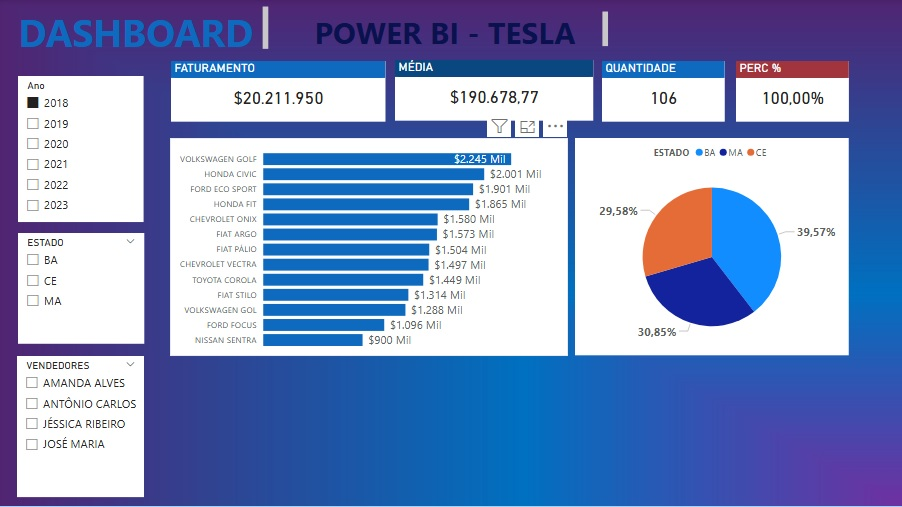

Layout of this report page (visuals, bound fields, positions):
{"tool":"powerbi","page":{"name":"Página 1","canvas":[1280,720],"ordinal":0},"visuals":[{"type":"card","title":"FATURAMENTO","fields":{"Values":["LANÇAMENTOS.FATURAMENTO"]},"box":[322.9,85.7,304.3,85.7],"z":0},{"type":"card","title":"MÉDIA","fields":{"Values":["LANÇAMENTOS.FATURAMENTO"]},"box":[637.1,85.7,281.4,85.7],"z":1000},{"type":"card","title":"QUANTIDADE","fields":{"Values":["LANÇAMENTOS.FATURAMENTO"]},"box":[930,85.7,155.7,85.7],"z":2000},{"type":"card","title":"PERC %","fields":{"Values":["LANÇAMENTOS.FATURAMENTO"]},"box":[1095.7,85.7,124.3,85.7],"z":3000},{"type":"slicer","fields":{"Values":["LANÇAMENTOS.ESTADO"]},"box":[27.1,330,178.6,157.1],"z":4000},{"type":"slicer","fields":{"Values":["LANÇAMENTOS.VENDEDORES"]},"box":[25.7,504.3,180,200],"z":5000},{"type":"slicer","fields":{"Values":["LANÇAMENTOS.DATA.Variation.Hierarquia de datas.Ano"]},"box":[27.5,107.3,178.2,206.6],"z":6000},{"type":"barChart","fields":{"Category":["TABELA CARROS.PRODUTO"],"Y":["LANÇAMENTOS.FATURAMENTO"]},"box":[322.8,189.8,897.3,308.6],"z":7000},{"type":"textbox","box":[27.1,2.9,404.3,80],"z":8000},{"type":"textbox","box":[442.9,11.4,425.7,62.9],"z":9000},{"type":"card","fields":{"Values":["LANÇAMENTOS.PERC"]},"box":[962.1,513.4,258,91.3],"z":9003}]}

Visuals, with their boxes in screenshot pixels (x1, y1, x2, y2), scaled from the page's 1280x720 canvas onto the 902x507 screenshot:
"FATURAMENTO" card: locate(228, 60, 442, 121)
"MÉDIA" card: locate(449, 60, 647, 121)
"QUANTIDADE" card: locate(655, 60, 765, 121)
"PERC %" card: locate(772, 60, 860, 121)
slicer - LANÇAMENTOS.ESTADO: locate(19, 232, 145, 343)
slicer - LANÇAMENTOS.VENDEDORES: locate(18, 355, 145, 496)
slicer - LANÇAMENTOS.DATA.Variation.Hierarquia de datas.Ano: locate(19, 76, 145, 221)
barChart - TABELA CARROS.PRODUTO x LANÇAMENTOS.FATURAMENTO: locate(227, 134, 860, 351)
textbox: locate(19, 2, 304, 58)
textbox: locate(312, 8, 612, 52)
card - LANÇAMENTOS.PERC: locate(678, 362, 860, 426)
